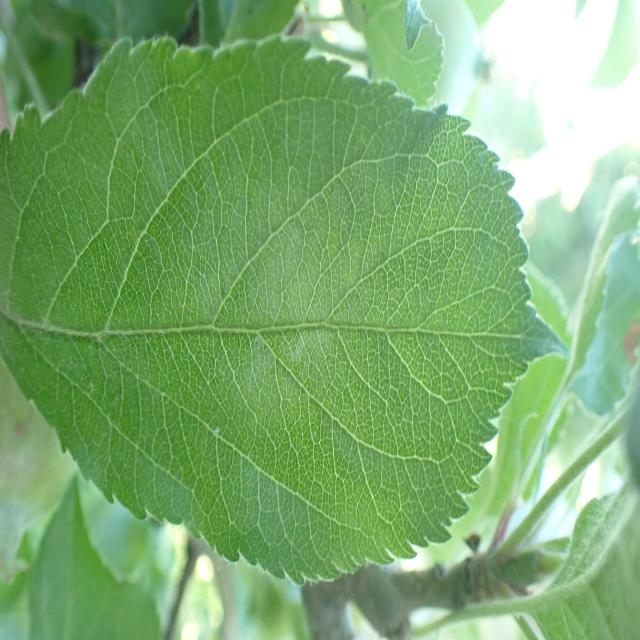healthy: (1, 33, 571, 586), (569, 231, 640, 419), (340, 0, 445, 109)
